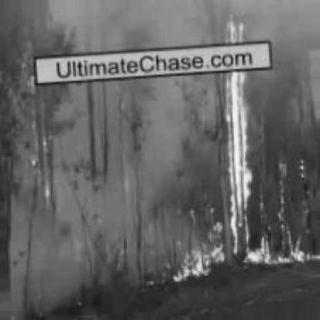Fire: (200, 10, 260, 266), (169, 216, 317, 280)
